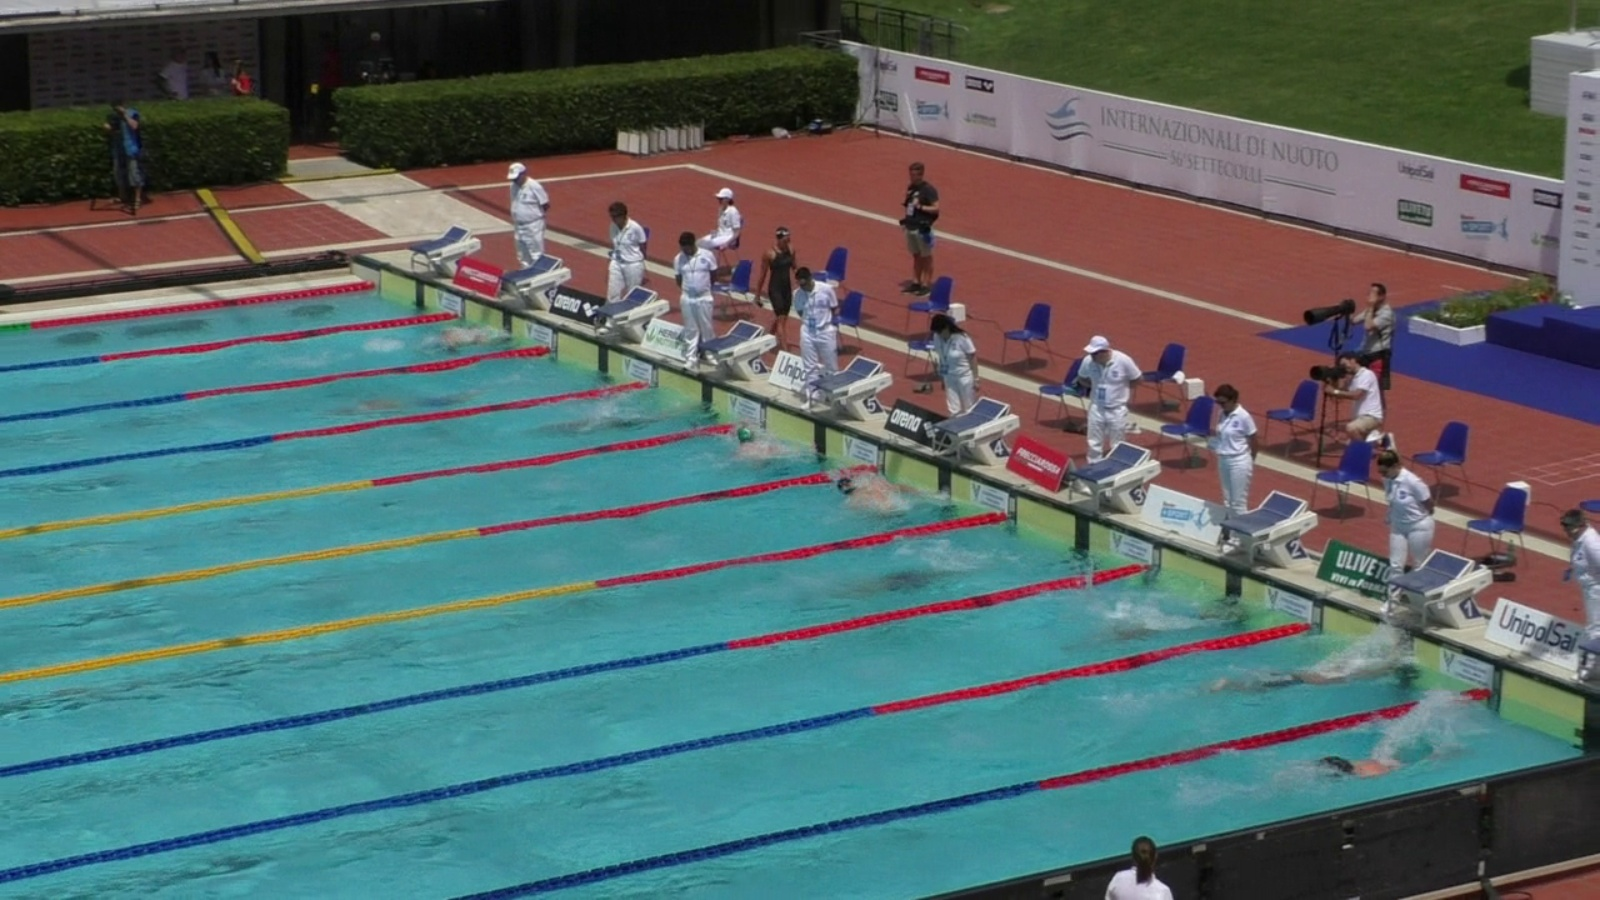swimmerwdd: (1071, 595, 1251, 648), (1203, 656, 1403, 687), (1281, 755, 1451, 785), (818, 471, 918, 519), (516, 413, 649, 447), (805, 568, 969, 595), (730, 425, 786, 489), (321, 397, 481, 416), (422, 324, 523, 355)
